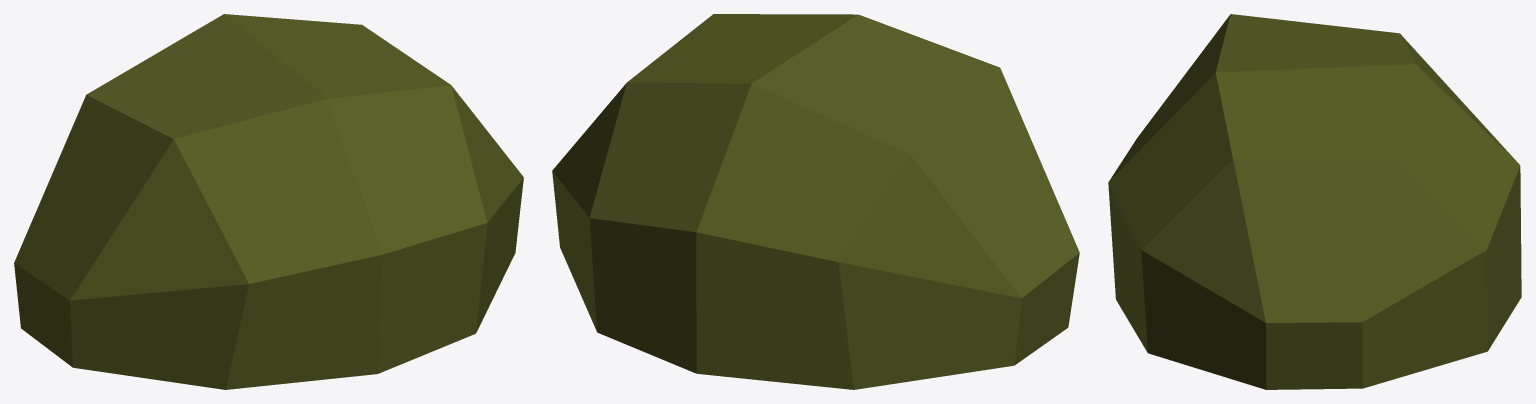
The model's file is TB_Env_Bush_Big_D.FBX.
3 renders of one model, left to right at view 1: azimuth 30°, elevation 25°; view 2: azimuth 150°, elevation 25°; view 3: azimuth 270°, elevation 25°, orthographic. The views are drawn at different scales.
Parts seen in each view (by area): view 1: TB_Env_Bush_Big_D; view 2: TB_Env_Bush_Big_D; view 3: TB_Env_Bush_Big_D.
Boxes of the visible parts, x1=… form: TB_Env_Bush_Big_D: x1=14, y1=14, x2=523, y2=389; TB_Env_Bush_Big_D: x1=552, y1=14, x2=1079, y2=389; TB_Env_Bush_Big_D: x1=1108, y1=14, x2=1521, y2=389.
Size of the model in its own units: 1.26 by 0.6442 by 1.02.
